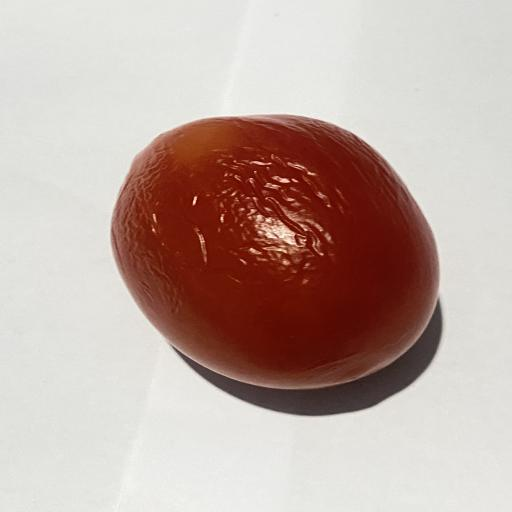spoiled: (111, 115, 439, 389)
